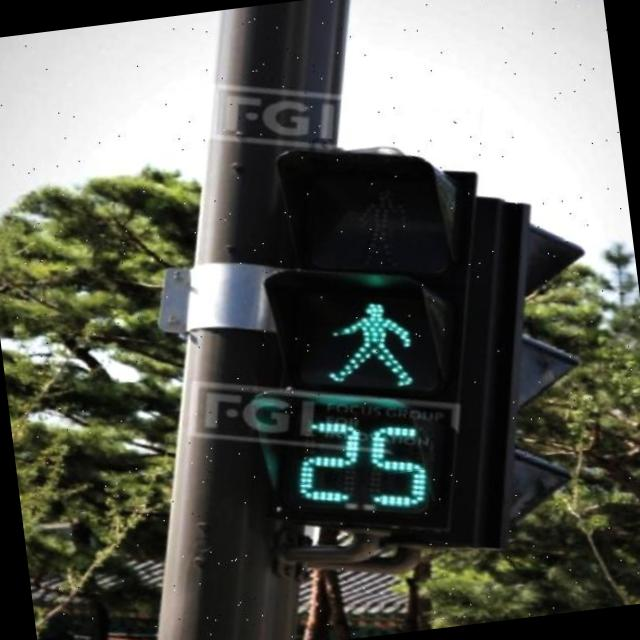green_light: (239, 270, 478, 548)
